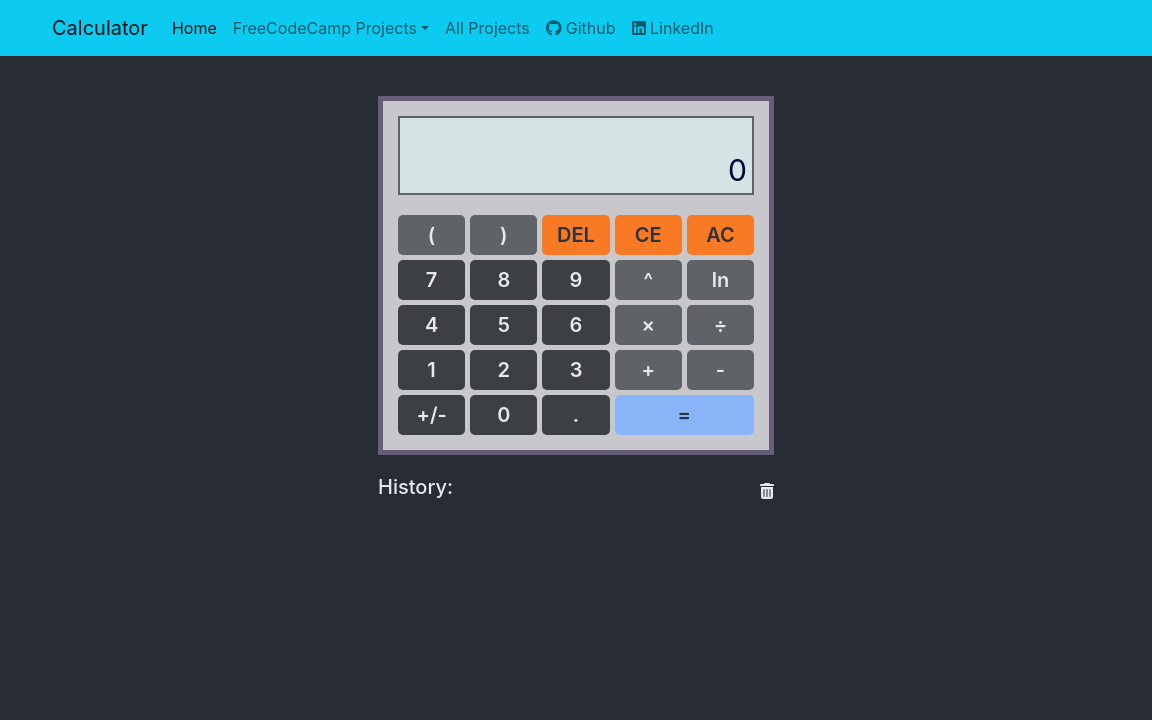
Test: Has basic calculator functionality › Clear entry button clears number display
What coordinates should you click on to do the following:
click the button "1"
I would click on:
 (432, 370)
Its box is left=398, top=350, right=465, bottom=390.
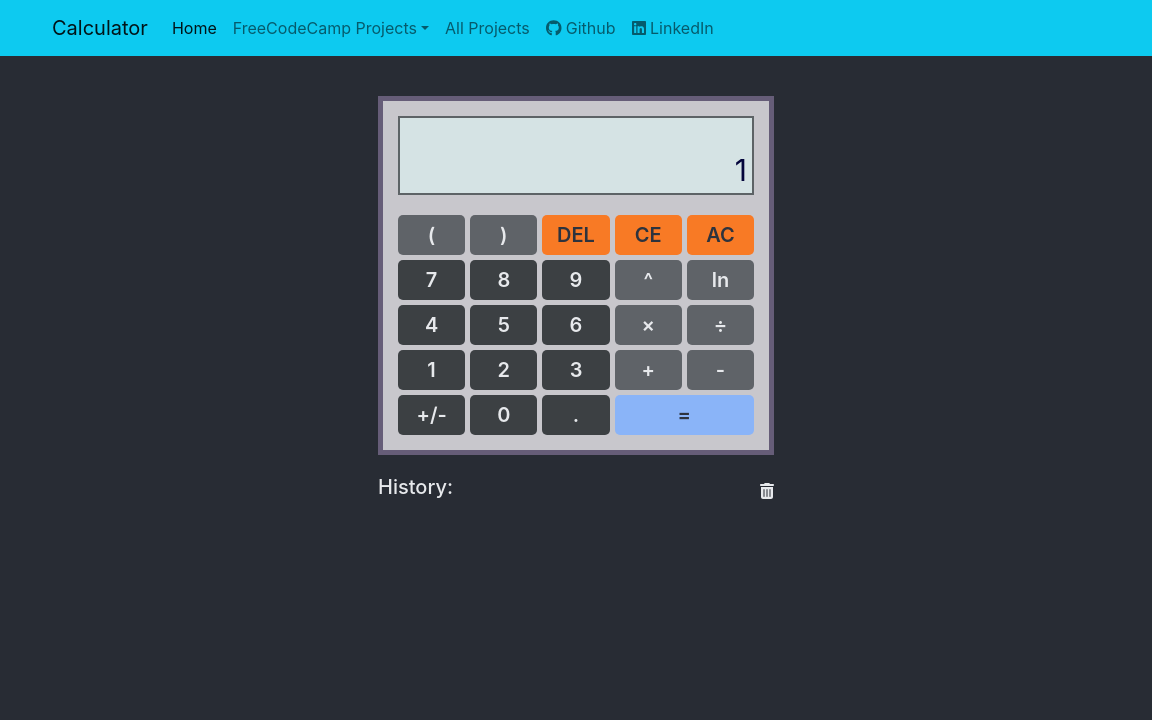
What coordinates should you click on to do the following:
click the button "5"
I would click on:
 (504, 325)
Its box is left=470, top=305, right=537, bottom=345.
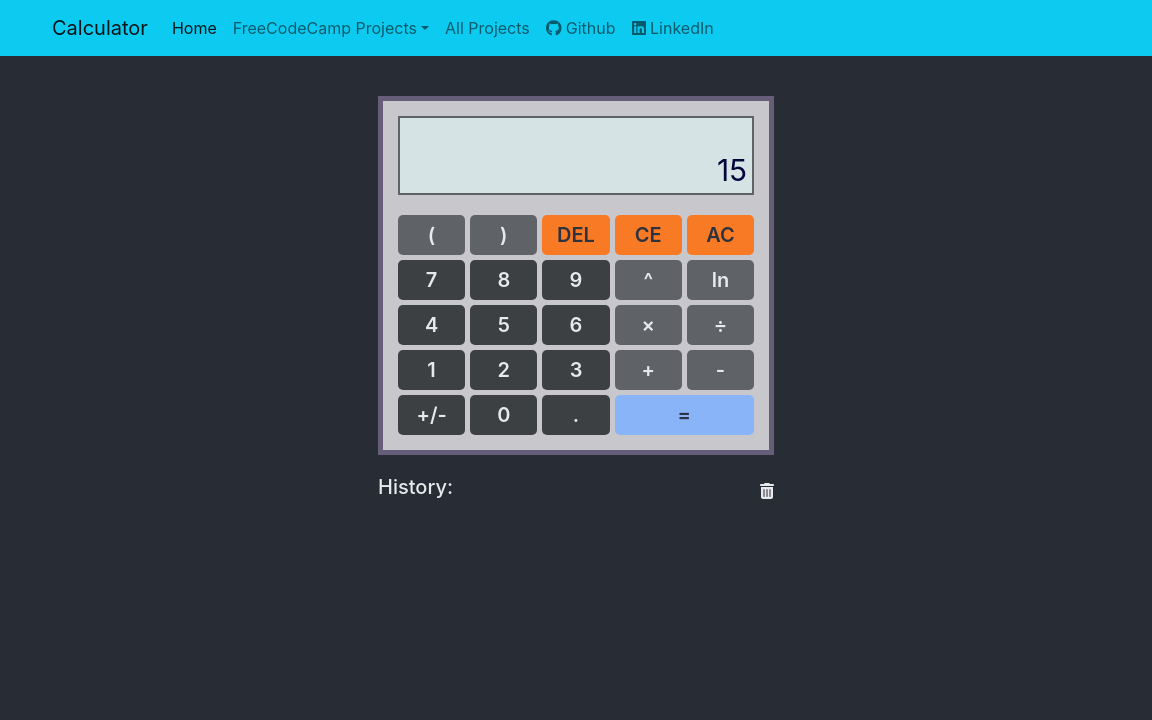
What coordinates should you click on to do the following:
click the button "9"
I would click on:
 (576, 280)
Its box is left=542, top=260, right=610, bottom=300.
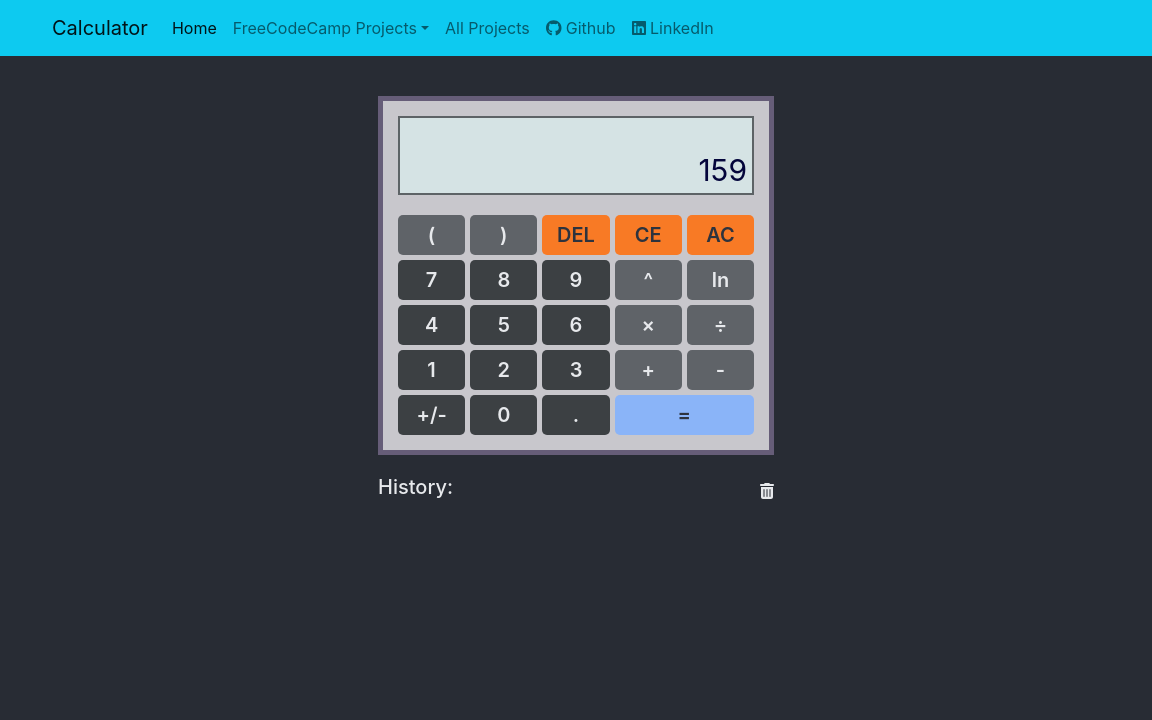
Expected: the text with test id "number-display" reads "159", left=698, top=152, right=747, bottom=188
What coordinates should you click on to do the following:
click the button "CE"
I would click on:
 (648, 235)
Its box is left=615, top=215, right=682, bottom=255.
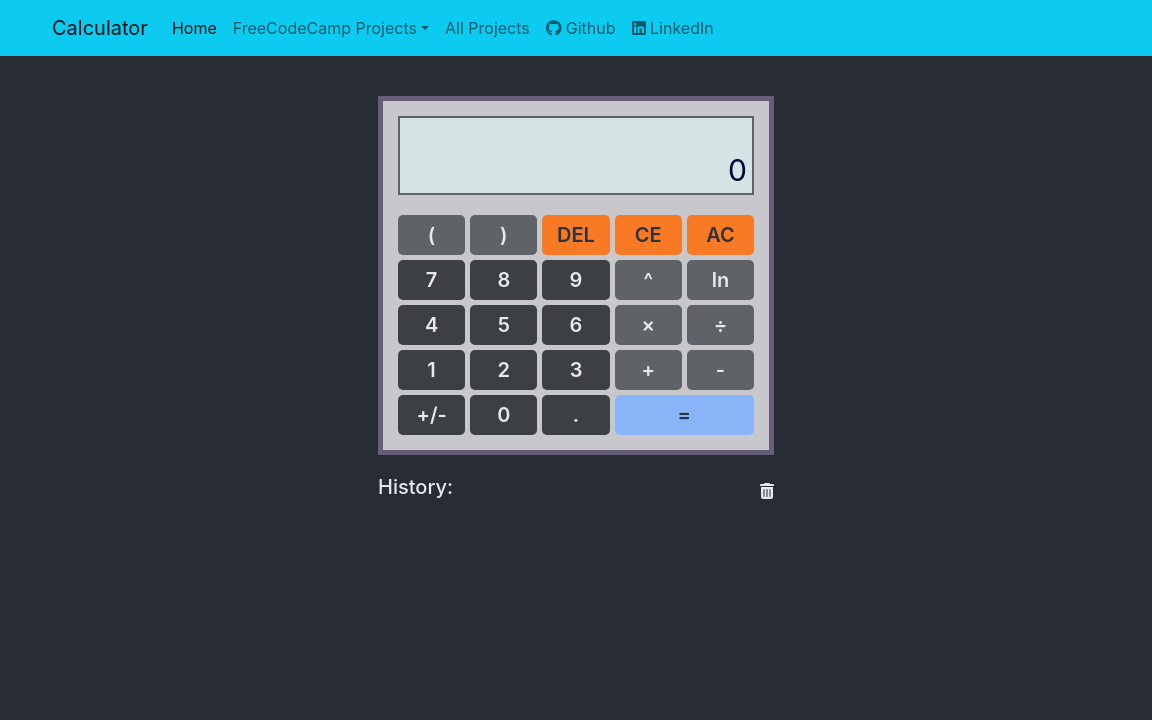
Expected: the text with test id "number-display" reads "0", left=728, top=152, right=747, bottom=188
